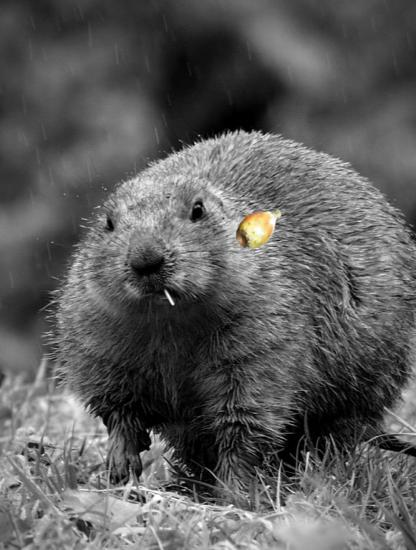Cactus: (232, 199, 287, 254)
